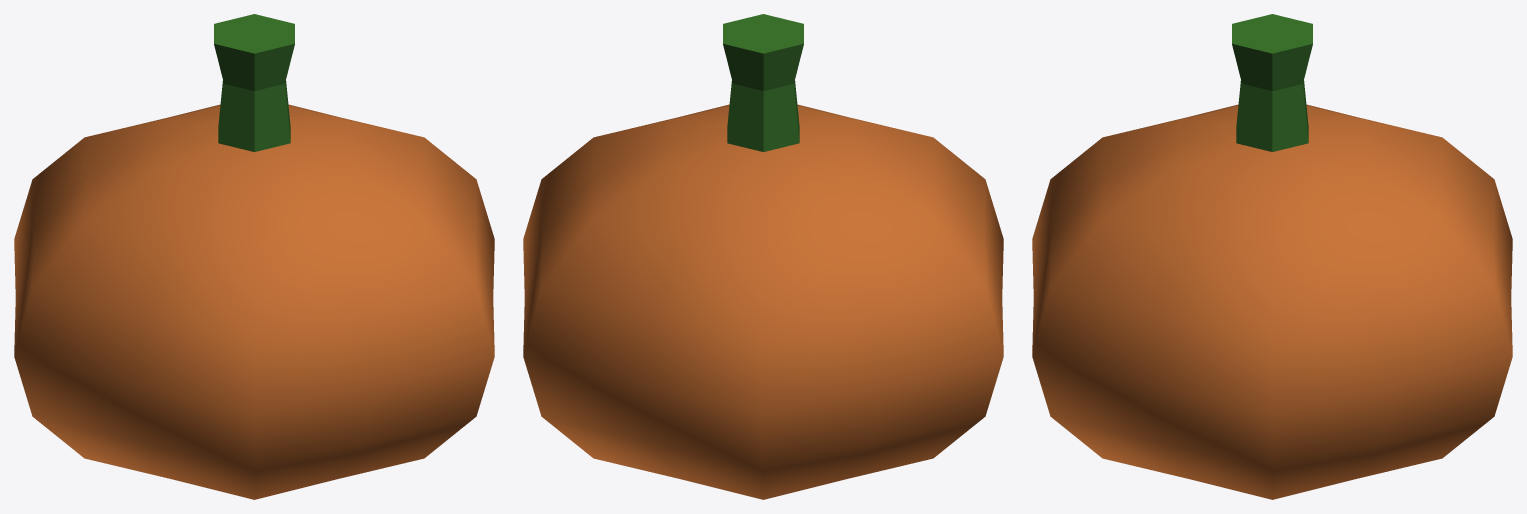
Rendered from pumpkin.glb.
3 views of the same model, side by side, from view 1: azimuth 30°, elevation 25°; view 2: azimuth 150°, elevation 25°; view 3: azimuth 270°, elevation 25° (orthographic).
Parts seen in each view (by area): view 1: Pumpkin; view 2: Pumpkin; view 3: Pumpkin.
Part boxes in pixels (x1,y1,x2,y2): Pumpkin: (14,14,494,499); Pumpkin: (523,14,1003,499); Pumpkin: (1032,14,1512,499).
Bounding box in the file's own units: 0.473 × 0.4068 × 0.4096.
